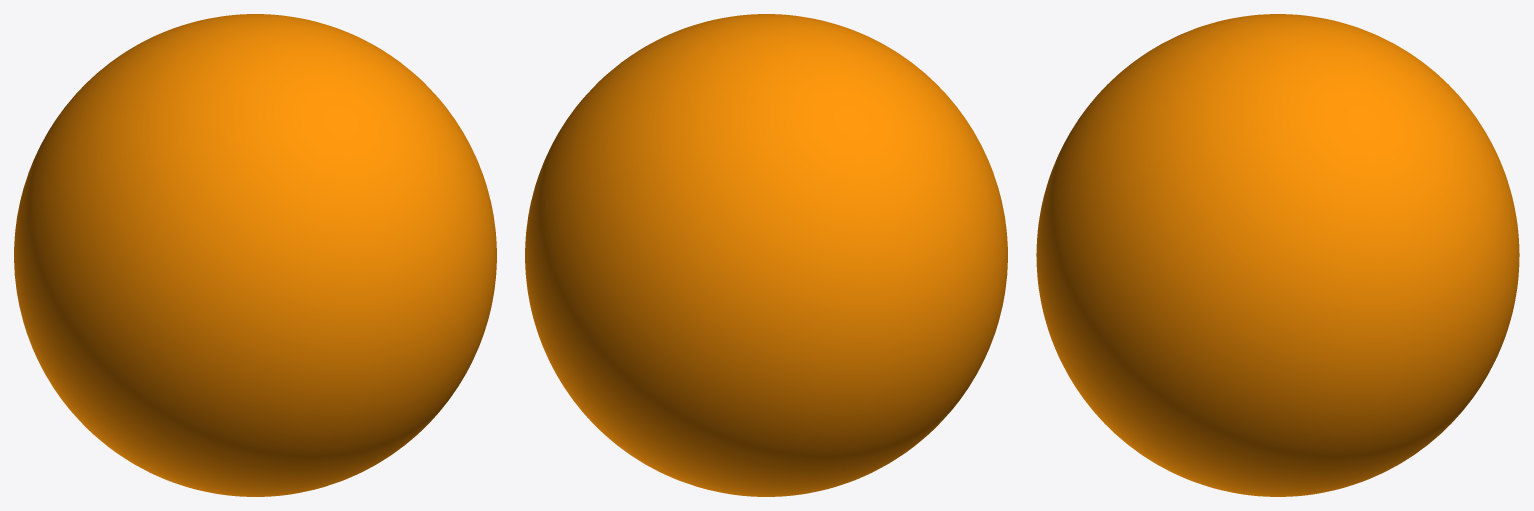
The model's file is アイコン坂手.dae.
3 renders of one model, left to right at view 1: azimuth 30°, elevation 25°; view 2: azimuth 150°, elevation 25°; view 3: azimuth 270°, elevation 25°, orthographic.
Parts seen in each view (by area): view 1: Brep; view 2: Brep; view 3: Brep.
Part boxes in pixels (x1=…): Brep: x1=14, y1=14, x2=496, y2=496; Brep: x1=525, y1=14, x2=1007, y2=496; Brep: x1=1036, y1=14, x2=1519, y2=496.
Size of the model in its own units: 299993 by 299993 by 300000.
